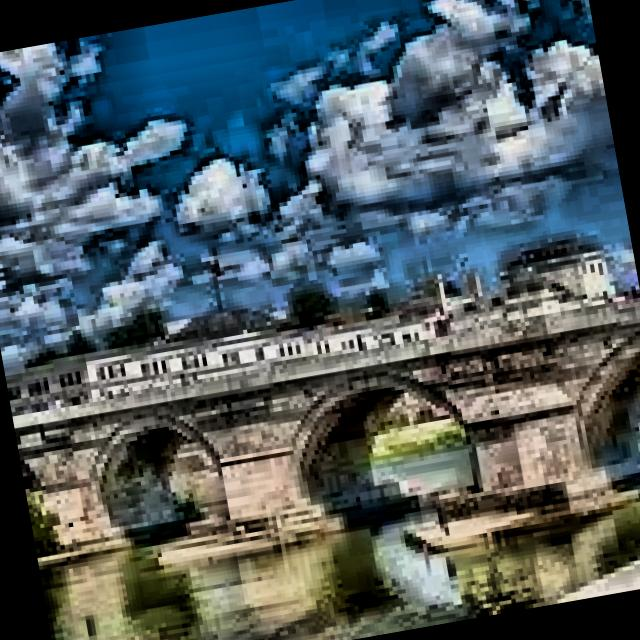stone bridge: (9, 287, 640, 563)
